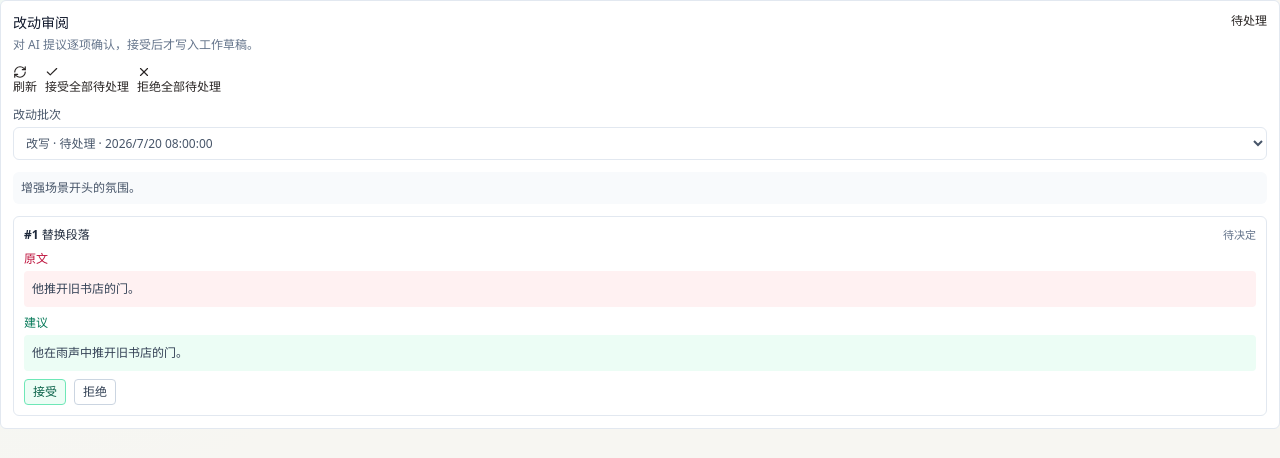
ChangeSetReviewPanel › rejects all pending operations without applying content
Check: the text "增强场景开头的氛围。" is shown, box x1=13 y1=172 x2=1267 y2=204
Click the button "拒绝全部待处理" at [179, 80], box x1=137 y1=65 x2=221 y2=95
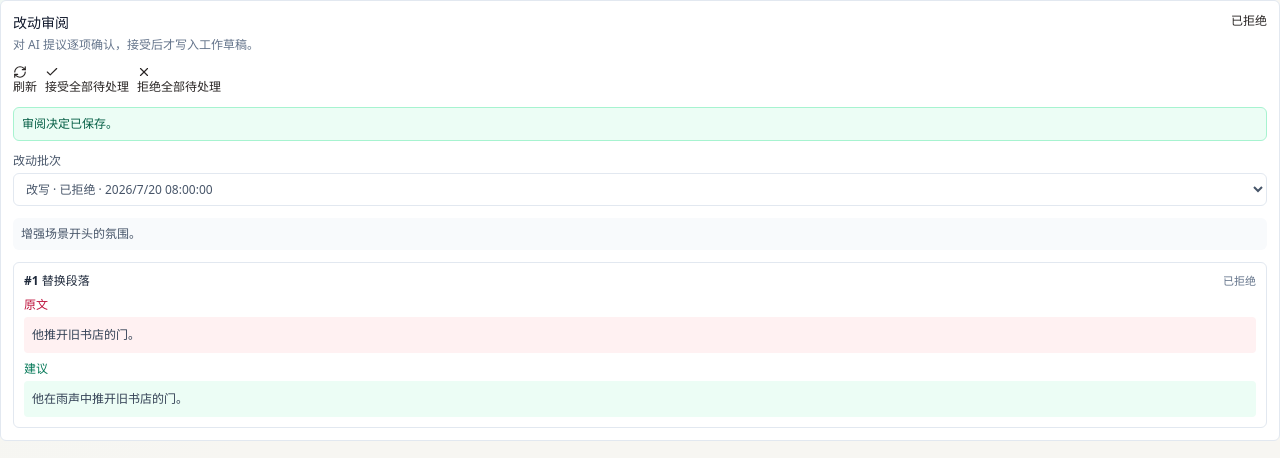
Check: the text "审阅决定已保存。" is shown, box x1=13 y1=107 x2=1267 y2=141
